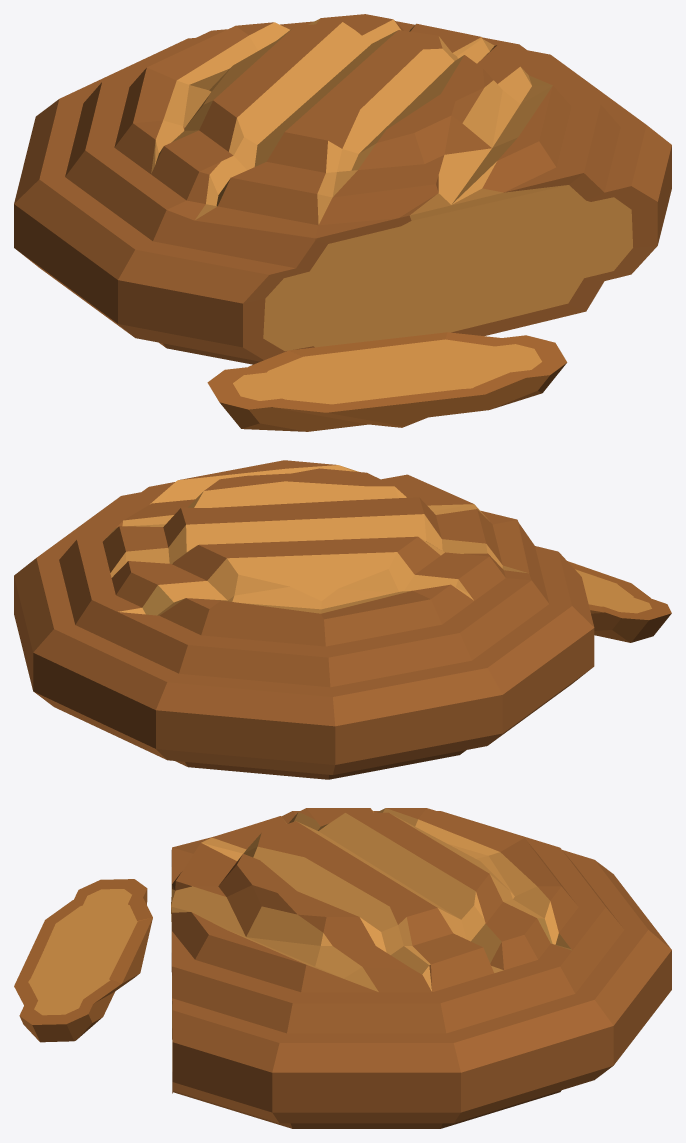
File: sliced _bread.fbx
3 renders of one model, top to bottom at view 1: azimuth 30°, elevation 25°; view 2: azimuth 150°, elevation 25°; view 3: azimuth 270°, elevation 25°, orthographic. The views are drawn at different scales.
Parts seen in each view (by area): view 1: Circle.006; view 2: Circle.006; view 3: Circle.006.
Boxes of the visible parts, <box> form: Circle.006: <box>14,14,671,431</box>; Circle.006: <box>14,460,671,779</box>; Circle.006: <box>14,808,671,1128</box>.
Bounding box in the file's own units: 40.86 × 13.21 × 46.29.
